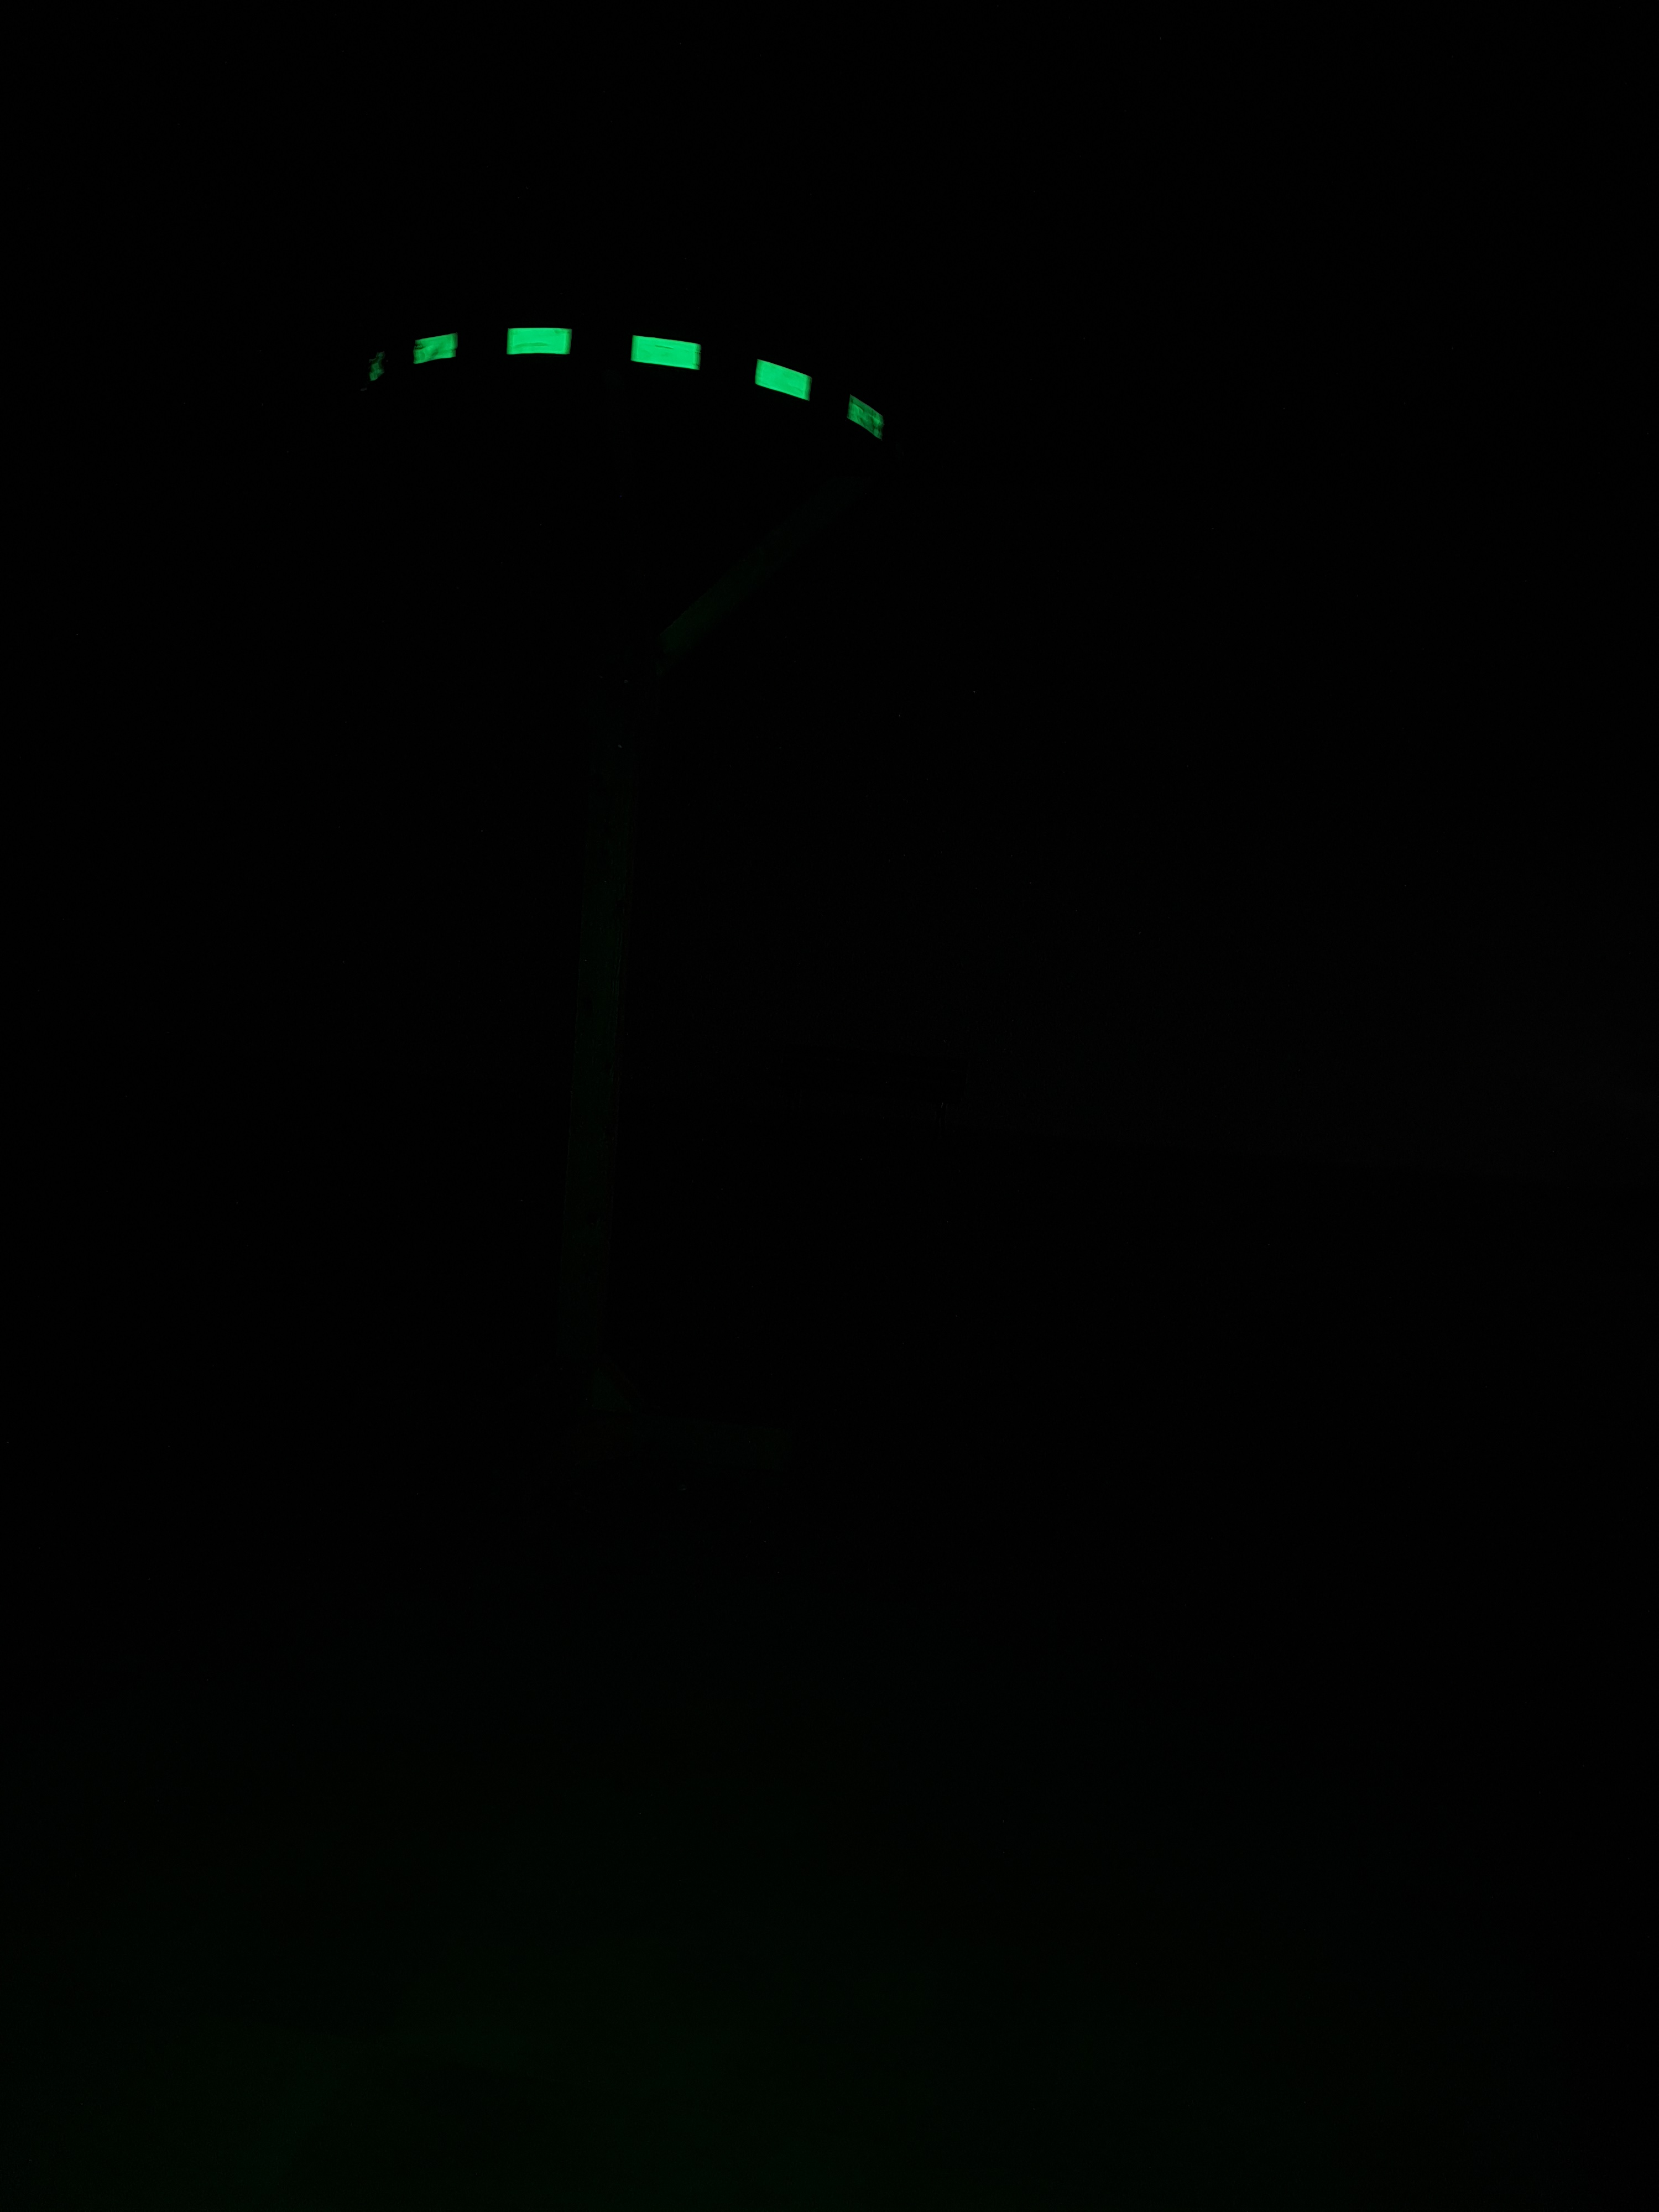hoop: (349, 317, 889, 453)
